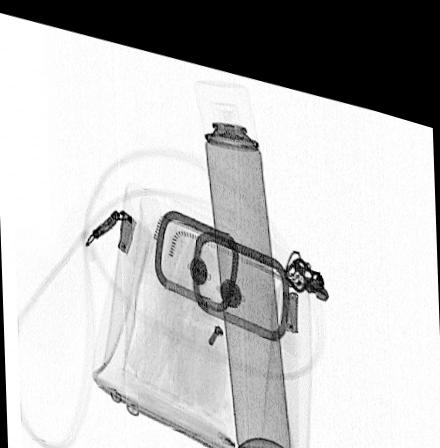Sprayer: (193, 64, 291, 445)
